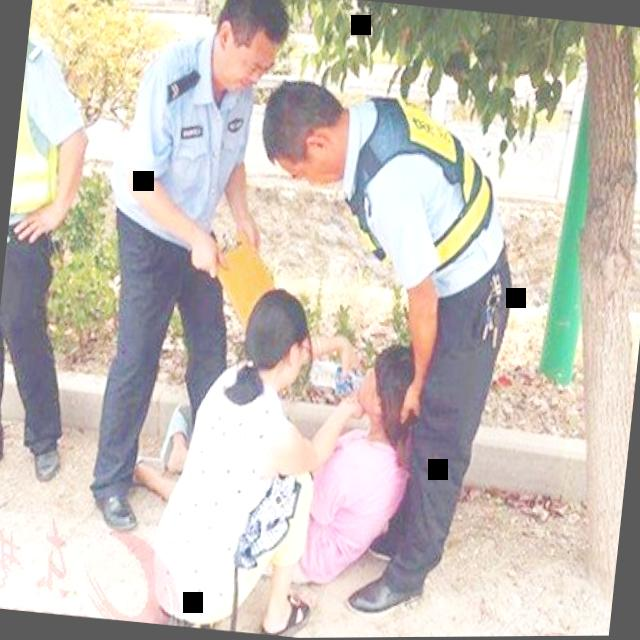Fall-Detected: (259, 323, 441, 610)
